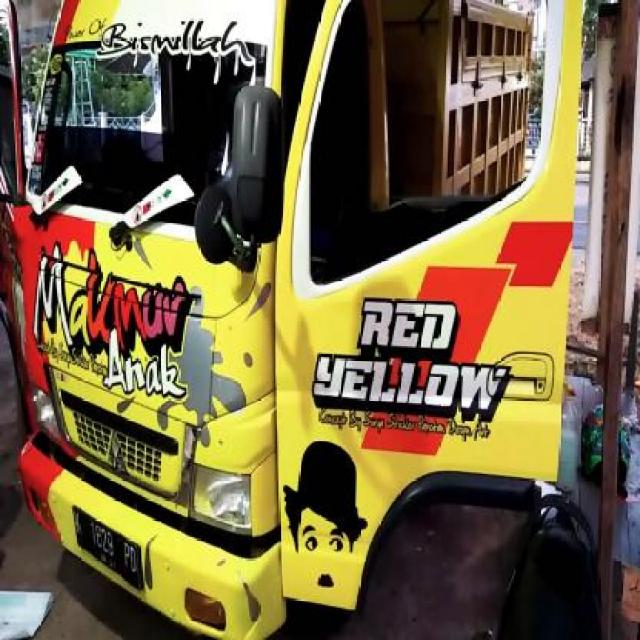truck: (1, 1, 582, 639)
